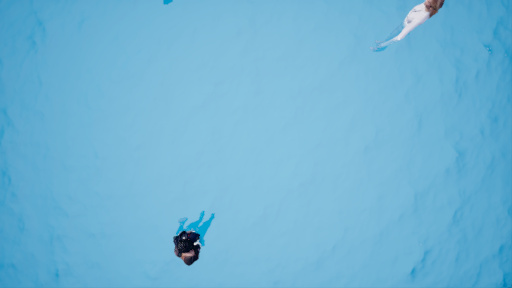person: (366, 1, 461, 62), (167, 199, 219, 267)
